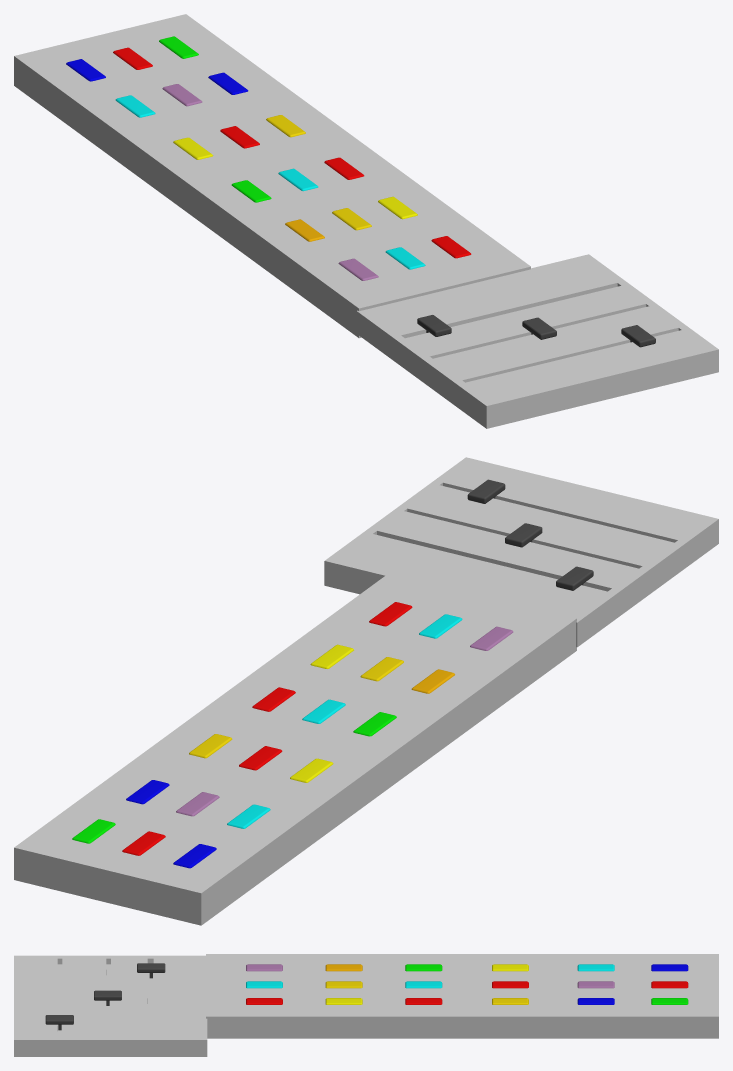
File: Soundboard Buttons.fbx
The picture shows the model from 3 angles, top to bottom: view 1: azimuth 30°, elevation 25°; view 2: azimuth 150°, elevation 25°; view 3: azimuth 270°, elevation 25°; orthographic projection. The views are drawn at different scales.
Visible parts, largest first — view 1: pCube30; view 2: pCube30; view 3: pCube30.
Boxes of the visible parts, <box> form: pCube30: <box>14,14,718,428</box>; pCube30: <box>14,457,718,925</box>; pCube30: <box>14,954,718,1056</box>.
Bounding box in the file's own units: 1.77 × 0.2392 × 6.26.
